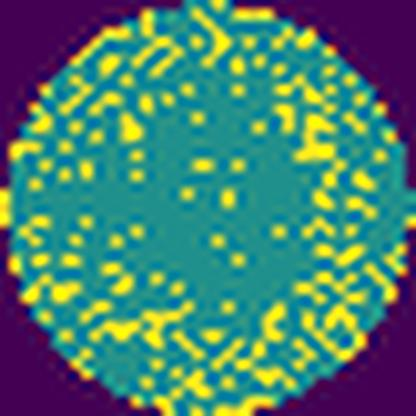Loc: (86, 302, 198, 352), (290, 110, 338, 167)
